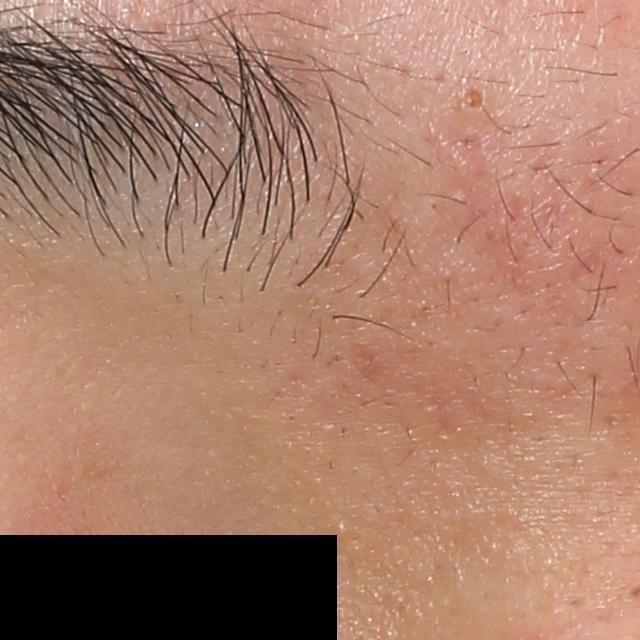comedo: (451, 85, 499, 117)
